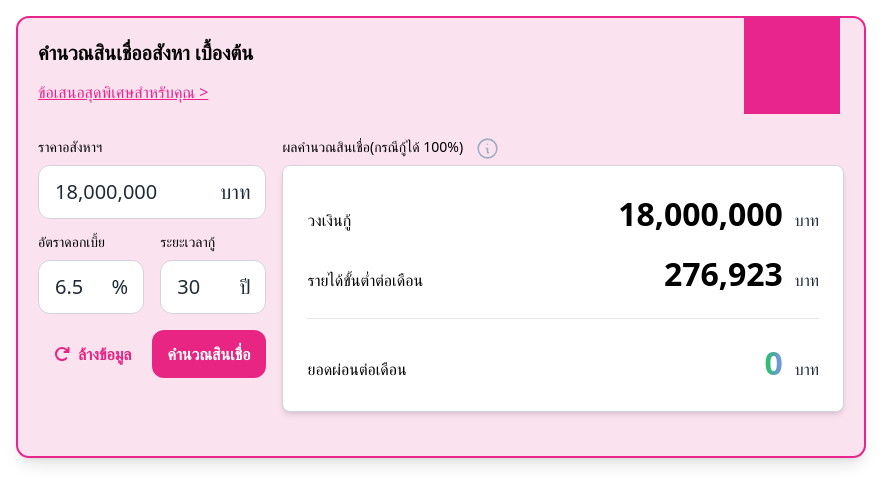
Test: คอมโพเนนต์ Calculator › ตรวจสอบการป้อนอัตราดอกเบี้ย
Replace the text in the field named "อัตราดอกเบี้ย" with "abc" at [91, 287], box [38,260,144,314]
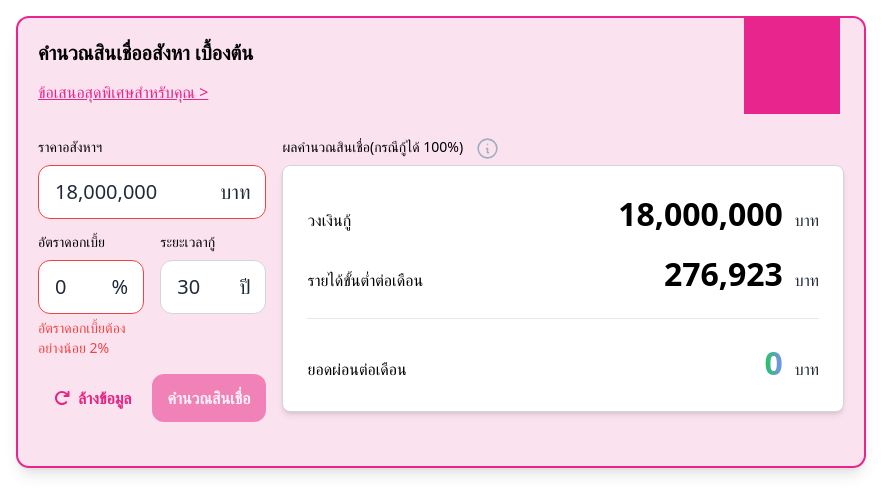
Now the text "อัตราดอกเบี้ยต้องอย่างน้อย 2%" is shown, box [38,318,126,357]
